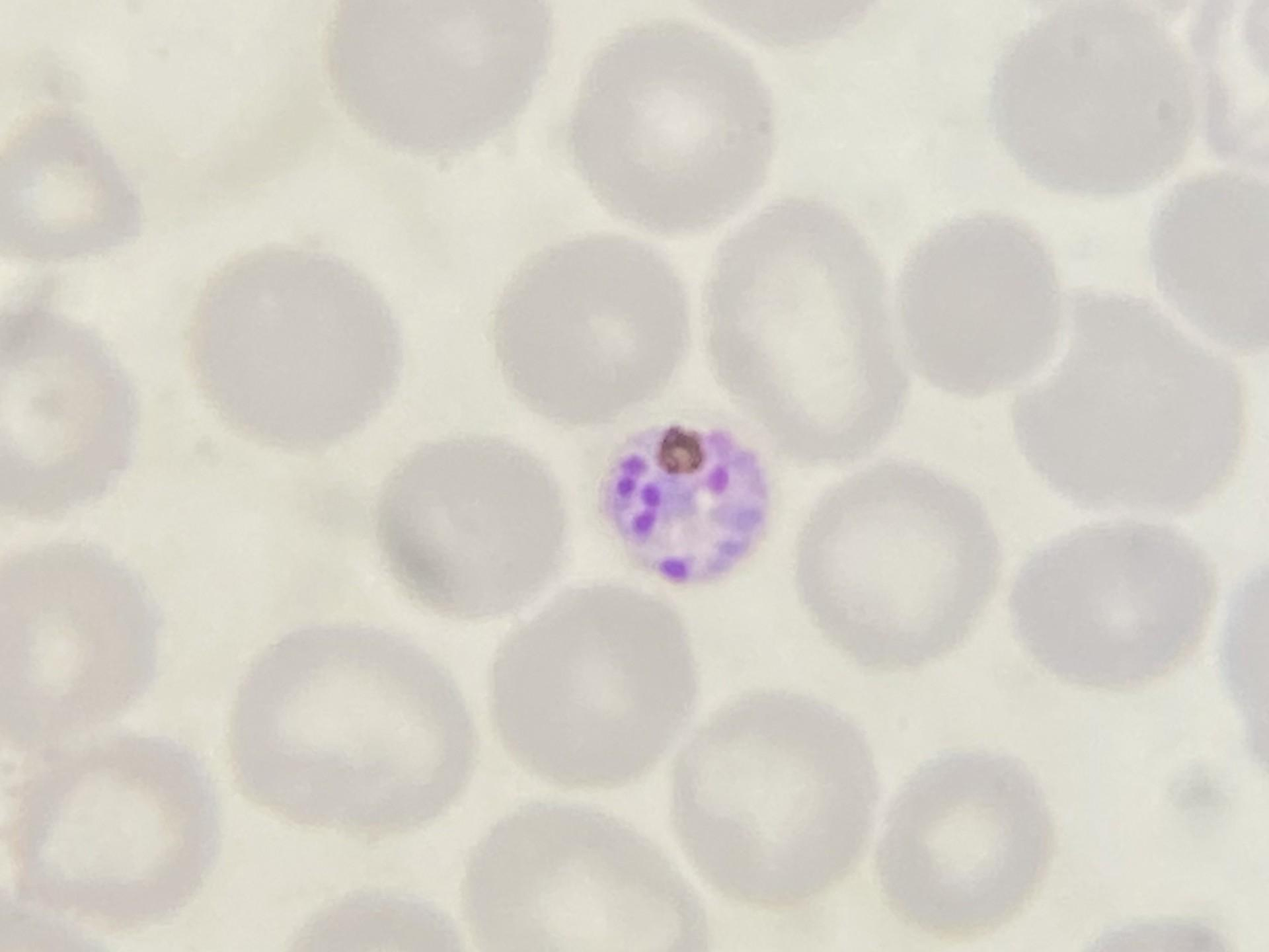Infected: (597, 415, 768, 587)
Uninfected: (718, 203, 915, 470), (234, 622, 483, 830), (1016, 292, 1243, 512), (673, 688, 878, 906), (568, 27, 778, 232), (489, 587, 701, 790), (192, 243, 397, 452), (987, 1, 1200, 201), (0, 741, 226, 924), (793, 468, 999, 667), (458, 798, 708, 952), (493, 232, 686, 429), (375, 441, 573, 618), (872, 750, 1053, 939), (1009, 530, 1216, 692), (333, 1, 554, 152), (0, 318, 150, 524), (894, 219, 1063, 401), (7, 543, 154, 751)
